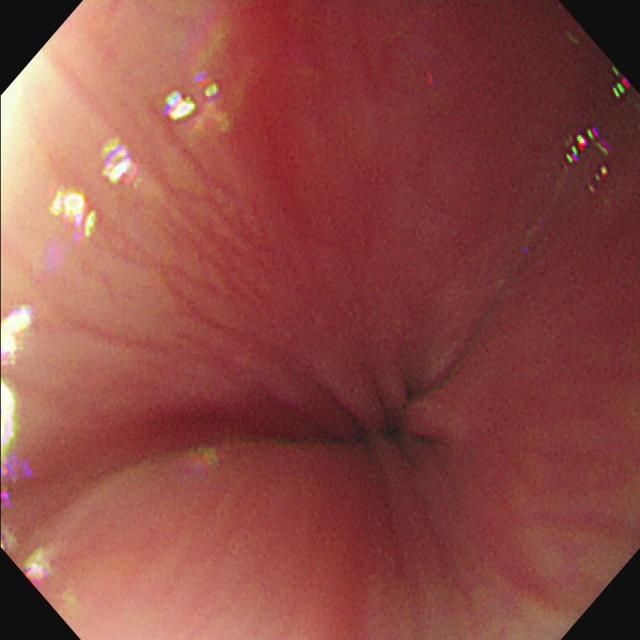I: (258, 293, 481, 528)
U: (2, 304, 32, 504), (162, 80, 222, 125), (50, 187, 100, 240), (565, 127, 610, 183), (100, 140, 140, 189), (24, 547, 58, 584), (612, 67, 633, 101)
